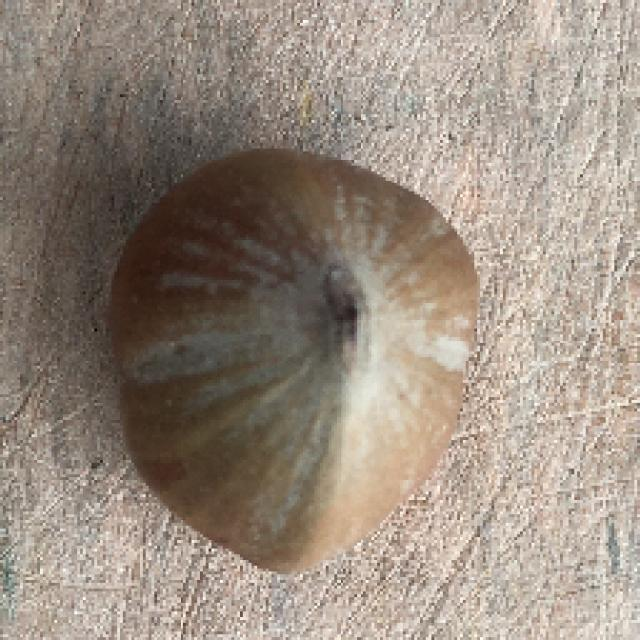qualityHazelnut: (121, 141, 482, 578)
